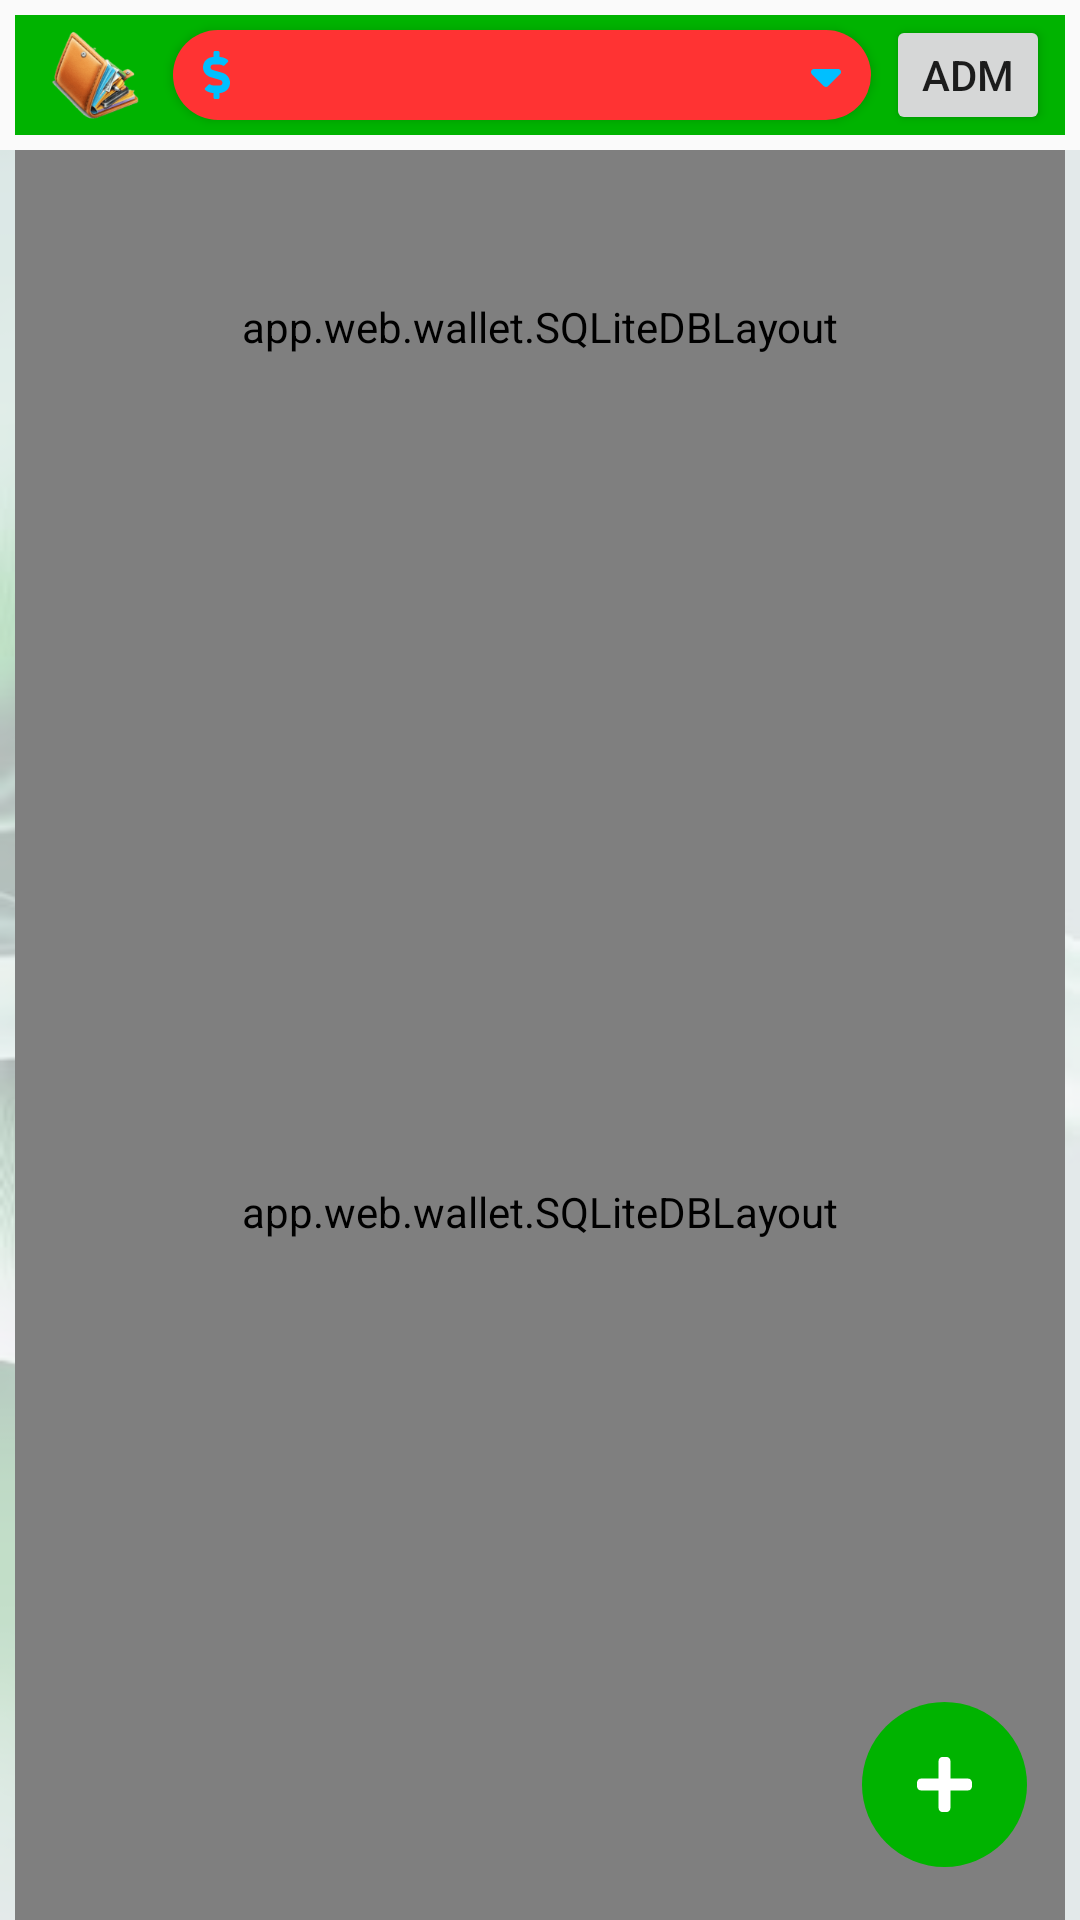

Screen size 1080×1920. Icon name, then its box in pixels as (x1, y1, x2, y2):
fab: (862, 1702, 1027, 1867)
